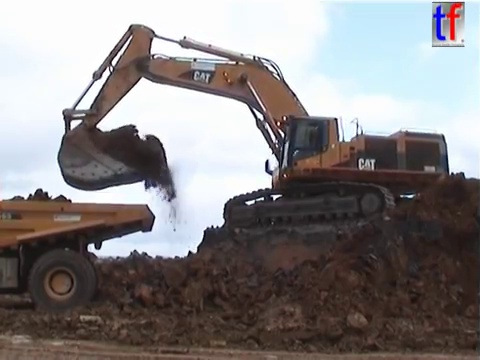excavator: (54, 22, 456, 233), (1, 196, 159, 319)
